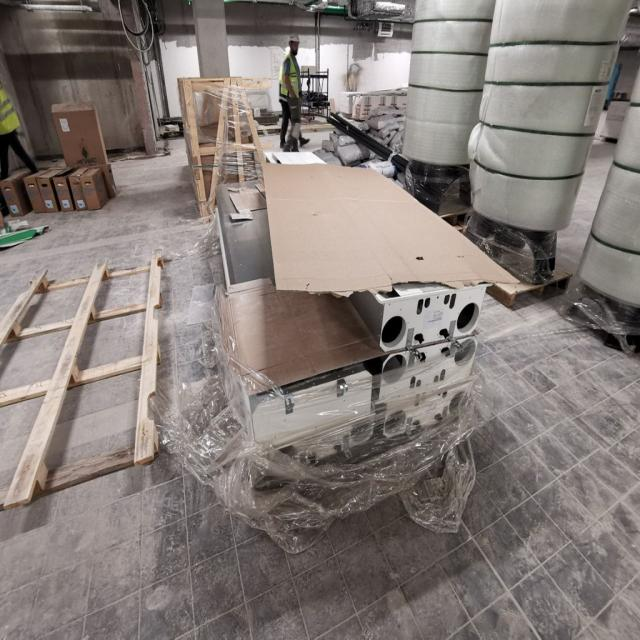Helmet: (289, 33, 302, 50)
Jacket: (1, 86, 16, 136), (284, 54, 299, 102)
